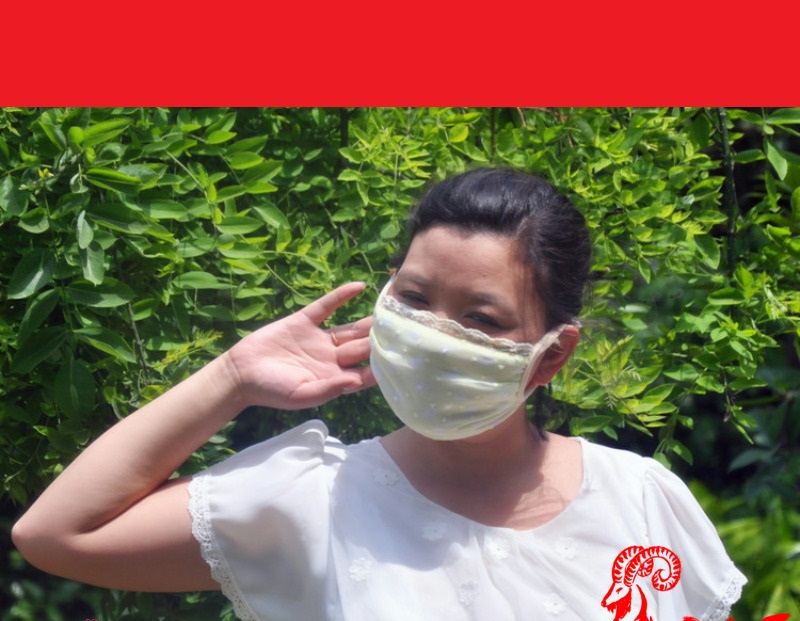face_mask: (367, 225, 540, 439)
